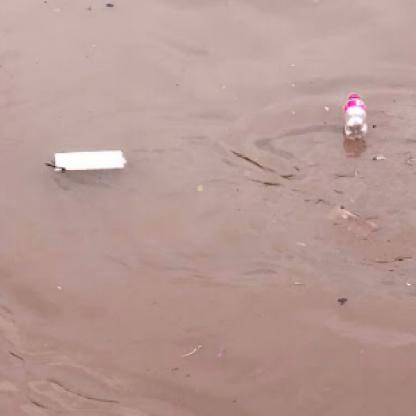Plastic: (341, 87, 371, 141)
Trash: (49, 149, 131, 174)
